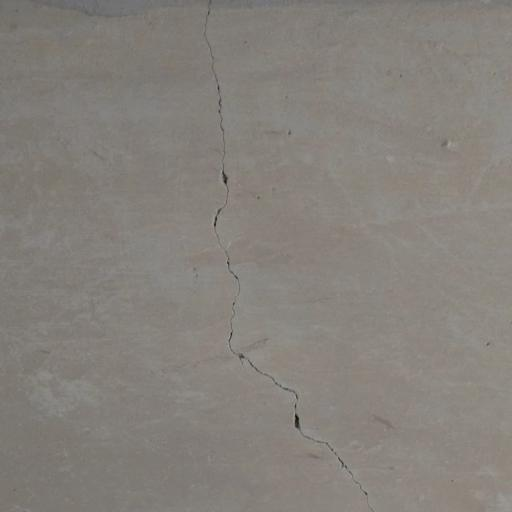minor_crack: (176, 1, 394, 512)
